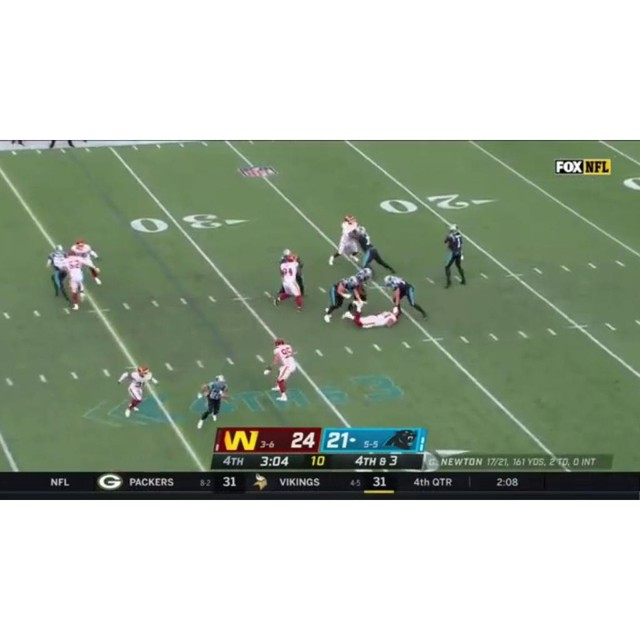american-football-player: (349, 223, 394, 274), (263, 337, 297, 403), (383, 274, 429, 320), (118, 366, 157, 418), (323, 275, 360, 325), (197, 374, 229, 430), (274, 254, 304, 313), (441, 224, 467, 289), (328, 216, 360, 268), (63, 250, 88, 312), (71, 237, 102, 286), (349, 305, 403, 329), (45, 245, 67, 300), (350, 265, 374, 307)
